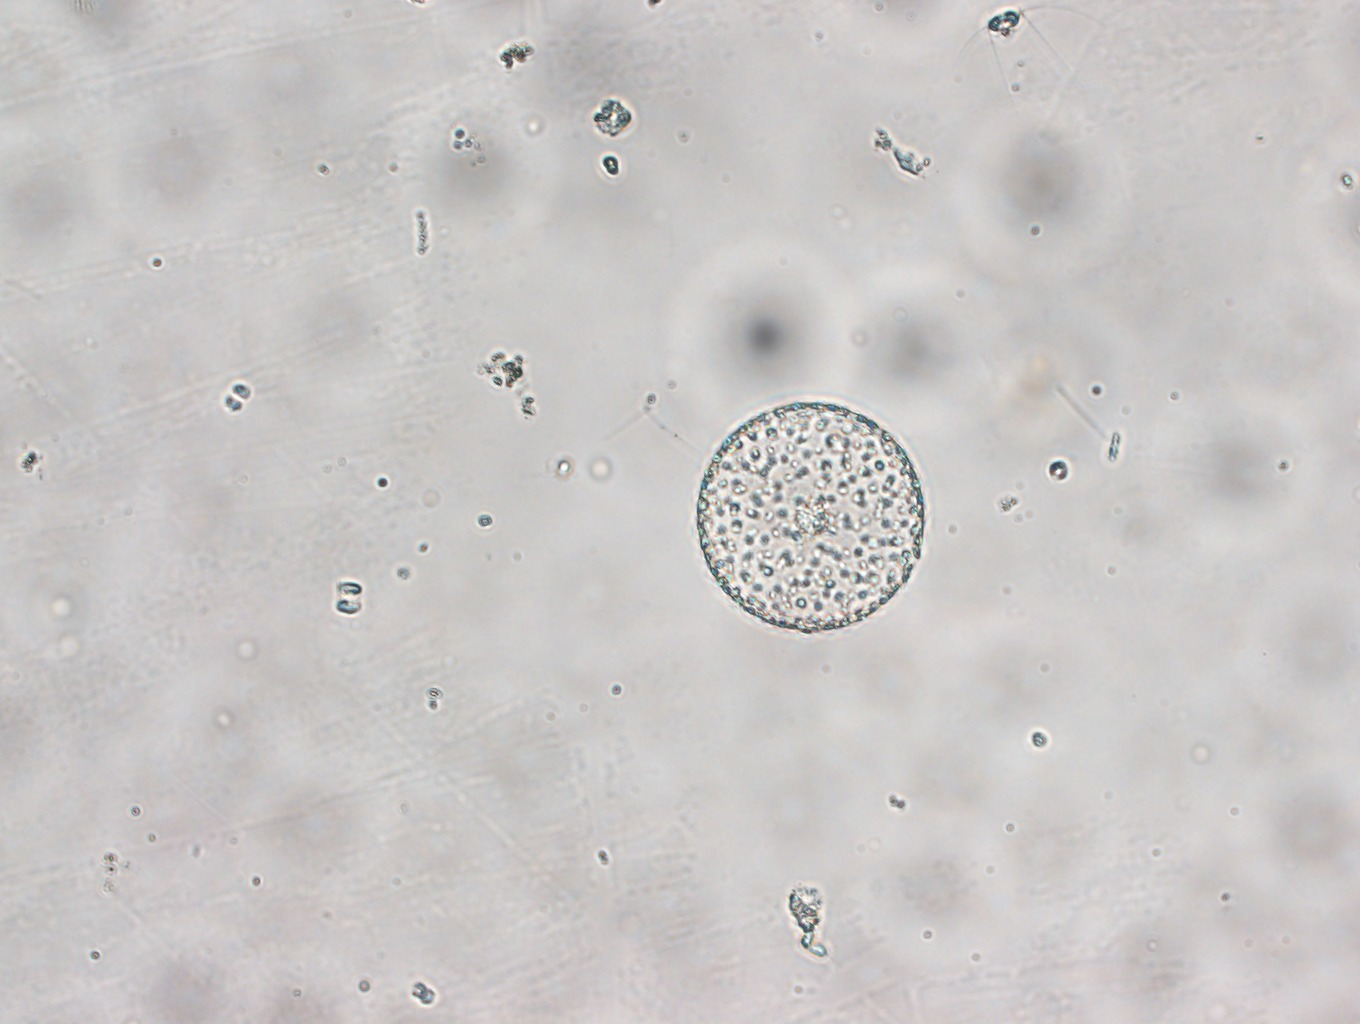coscinodiscus: (695, 399, 928, 637)
